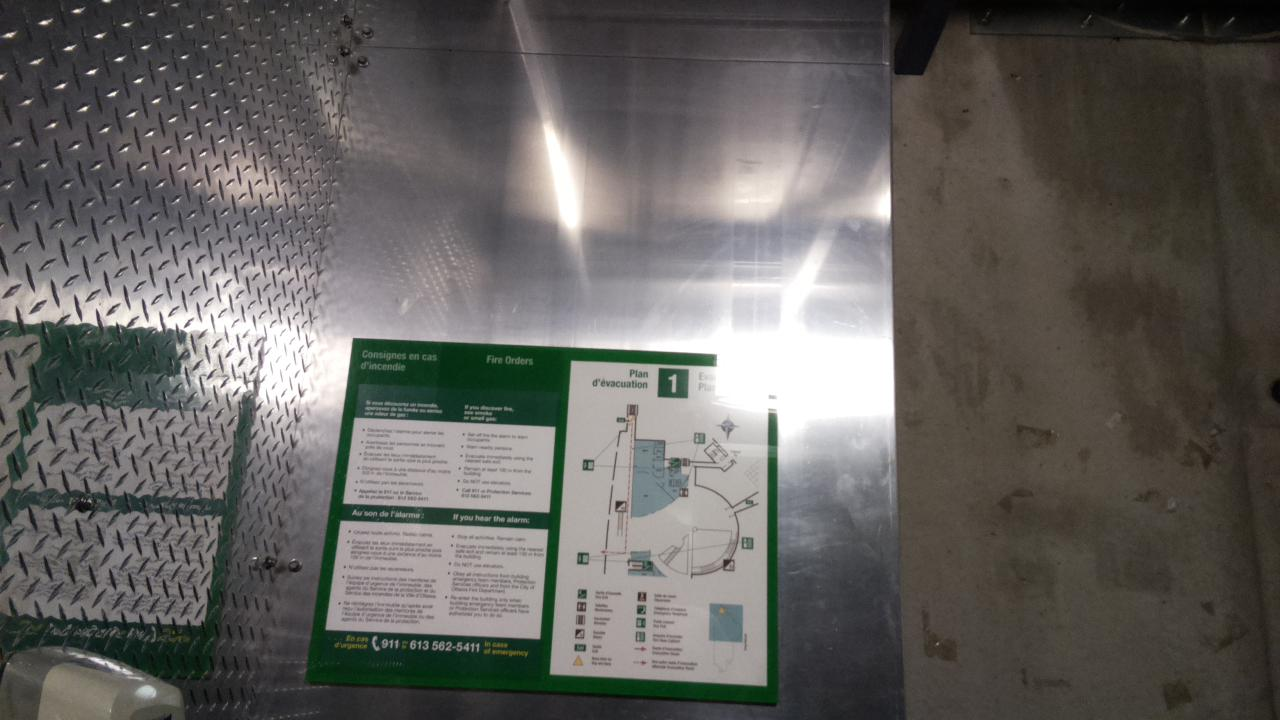sign: (307, 338, 776, 703)
